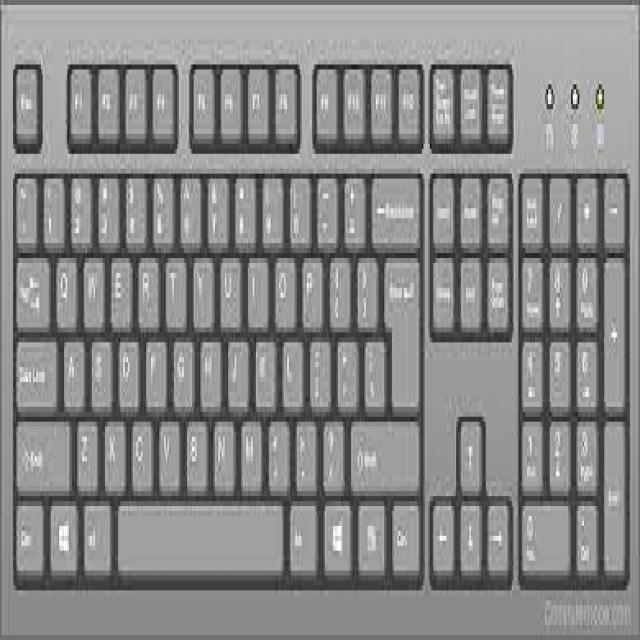others: (2, 5, 638, 640)
